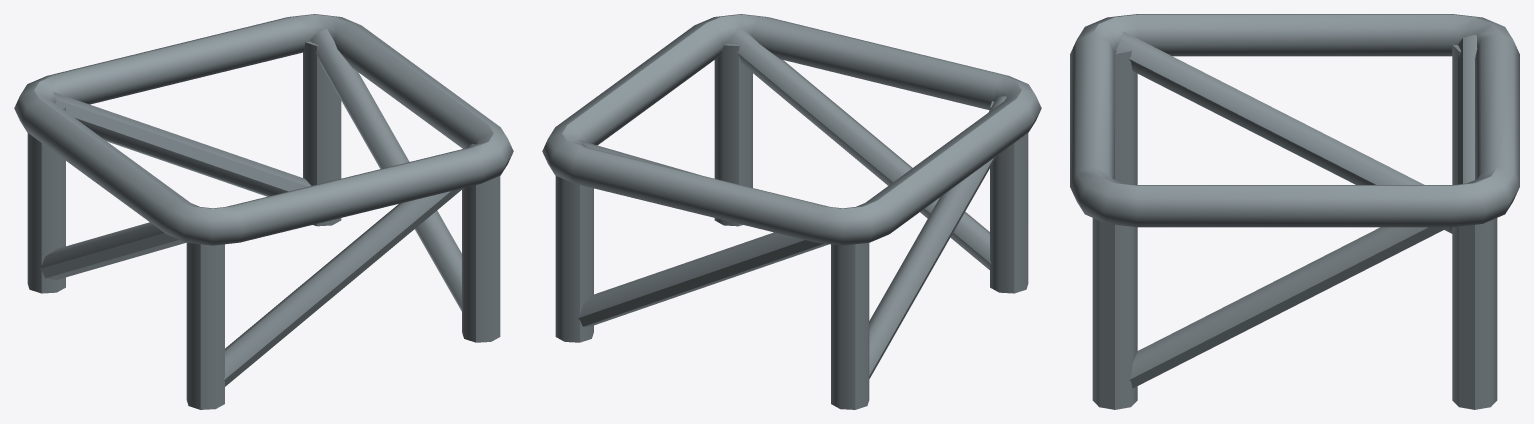
The model's file is structure_B.glb.
3 renders of one model, left to right at view 1: azimuth 30°, elevation 25°; view 2: azimuth 150°, elevation 25°; view 3: azimuth 270°, elevation 25°, orthographic. The views are drawn at different scales.
Parts seen in each view (by area): view 1: structure_B; view 2: structure_B; view 3: structure_B.
Boxes of the visible parts, x1=… form: structure_B: x1=14, y1=14, x2=513, y2=409; structure_B: x1=542, y1=14, x2=1041, y2=409; structure_B: x1=1070, y1=14, x2=1519, y2=409.
Size of the model in its own units: 2 by 1.1 by 2.
Materials: 1 (1 with a texture image).
